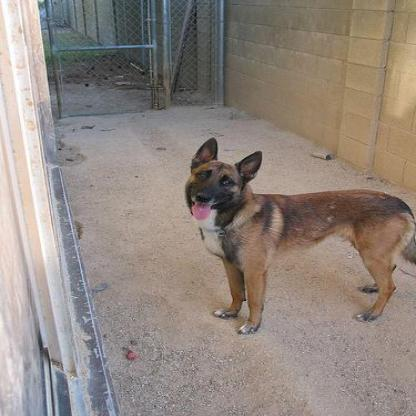malinois: (178, 138, 412, 332)
